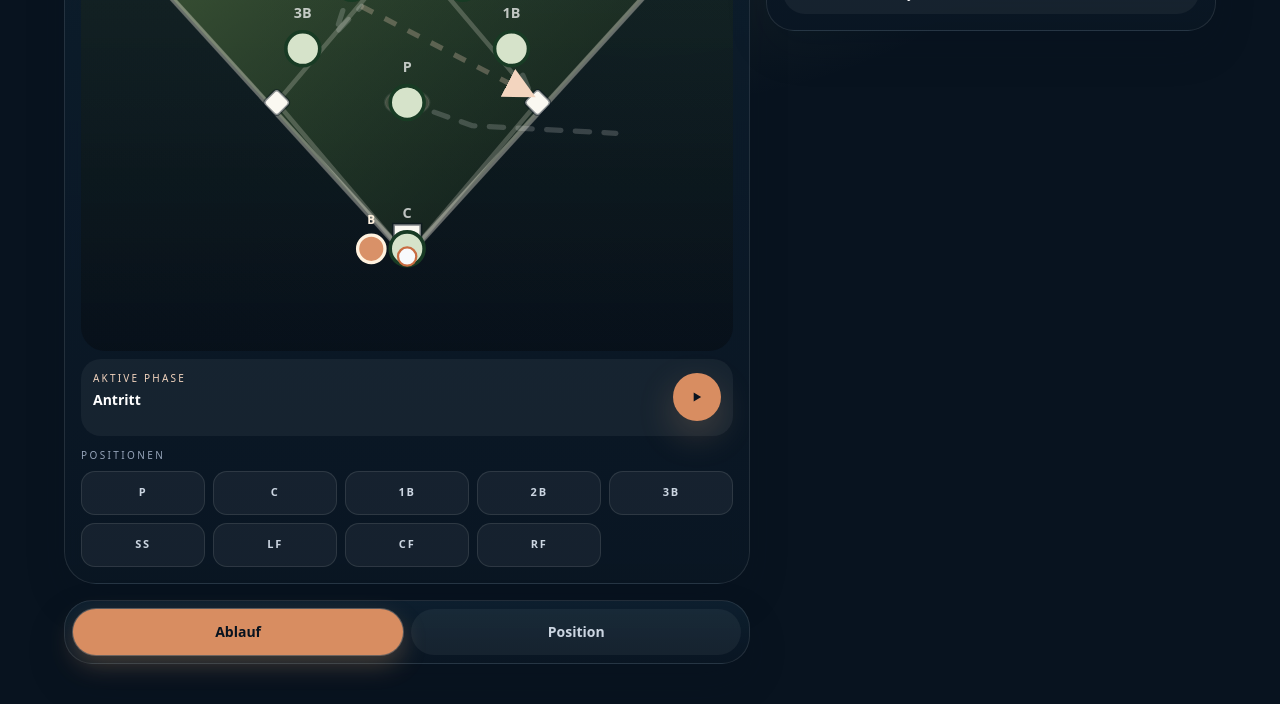
Test: TrainerScreen › keeps the public detail flow on Ablauf and Position only
This screenshot has width=1280, height=704.
(page scrolled)
Expected: the button "Ablauf" is shown, [73,609,403,655]
Expected: the button "Position" is shown, [411,609,741,655]
Step 1. Click the button "SS" → (143, 545), box [81,523,205,567]
(page scrolled)
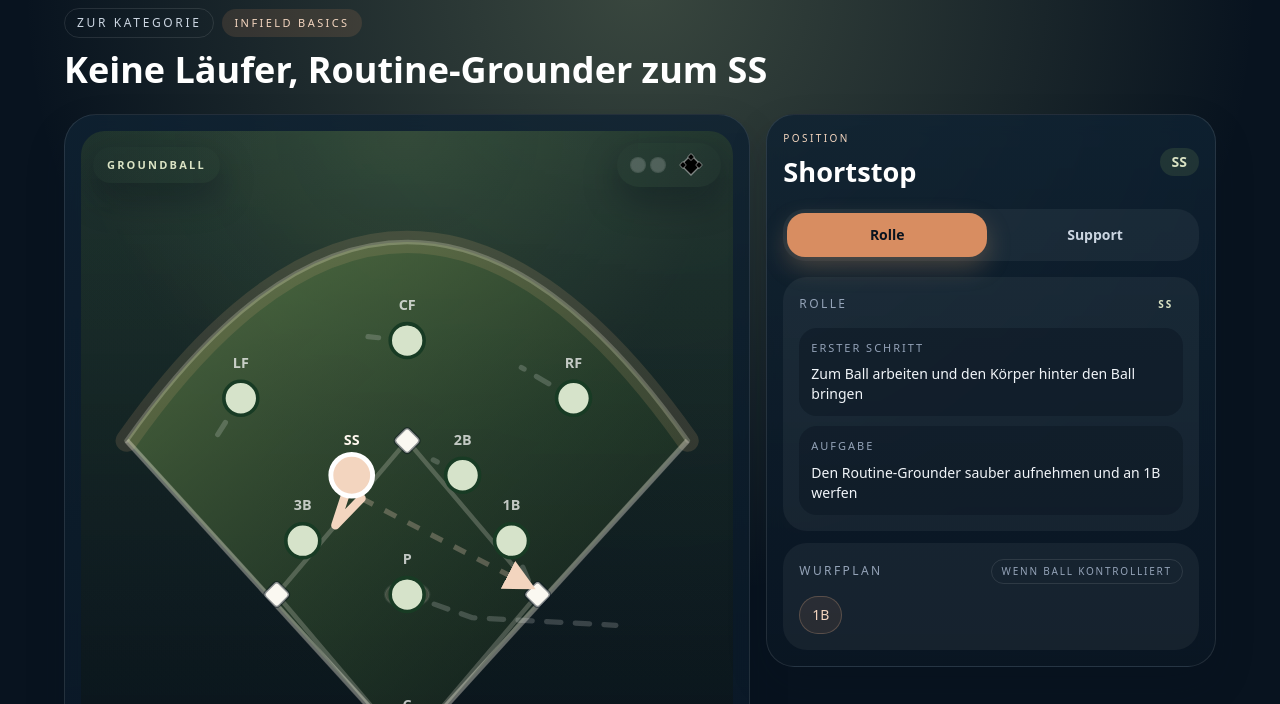
Expected: the heading "Shortstop" is shown, [783,152,916,193]
